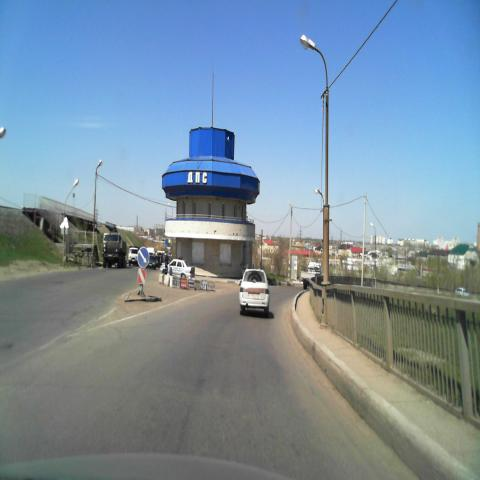4_2_1: (138, 247, 150, 268)
